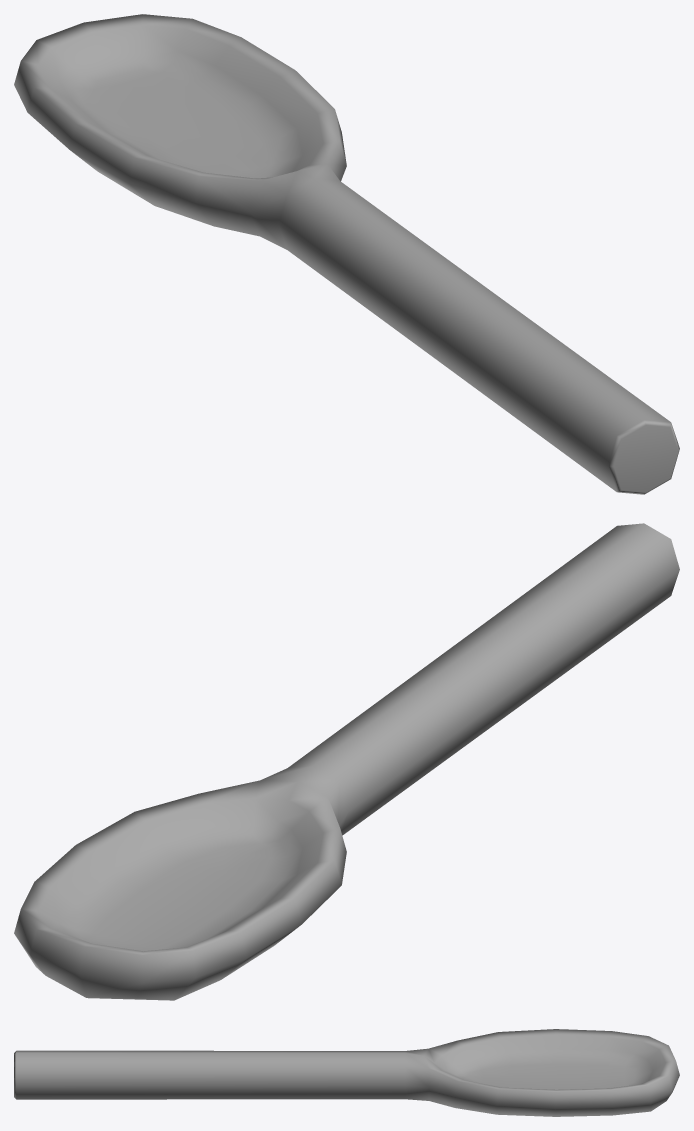
File: Spoon_1.glb
The picture shows the model from 3 angles, top to bottom: view 1: azimuth 30°, elevation 25°; view 2: azimuth 150°, elevation 25°; view 3: azimuth 270°, elevation 25°; orthographic projection. The views are drawn at different scales.
Parts seen in each view (by area): view 1: Spoon_1; view 2: Spoon_1; view 3: Spoon_1.
Part boxes in pixels (x1,y1,x2,y2): Spoon_1: (14, 14, 679, 494); Spoon_1: (14, 523, 679, 1000); Spoon_1: (14, 1029, 679, 1116).
Bounding box in the file's own units: 0.0708 × 0.0225 × 0.2985.
Materials: 1 (1 with a texture image).
